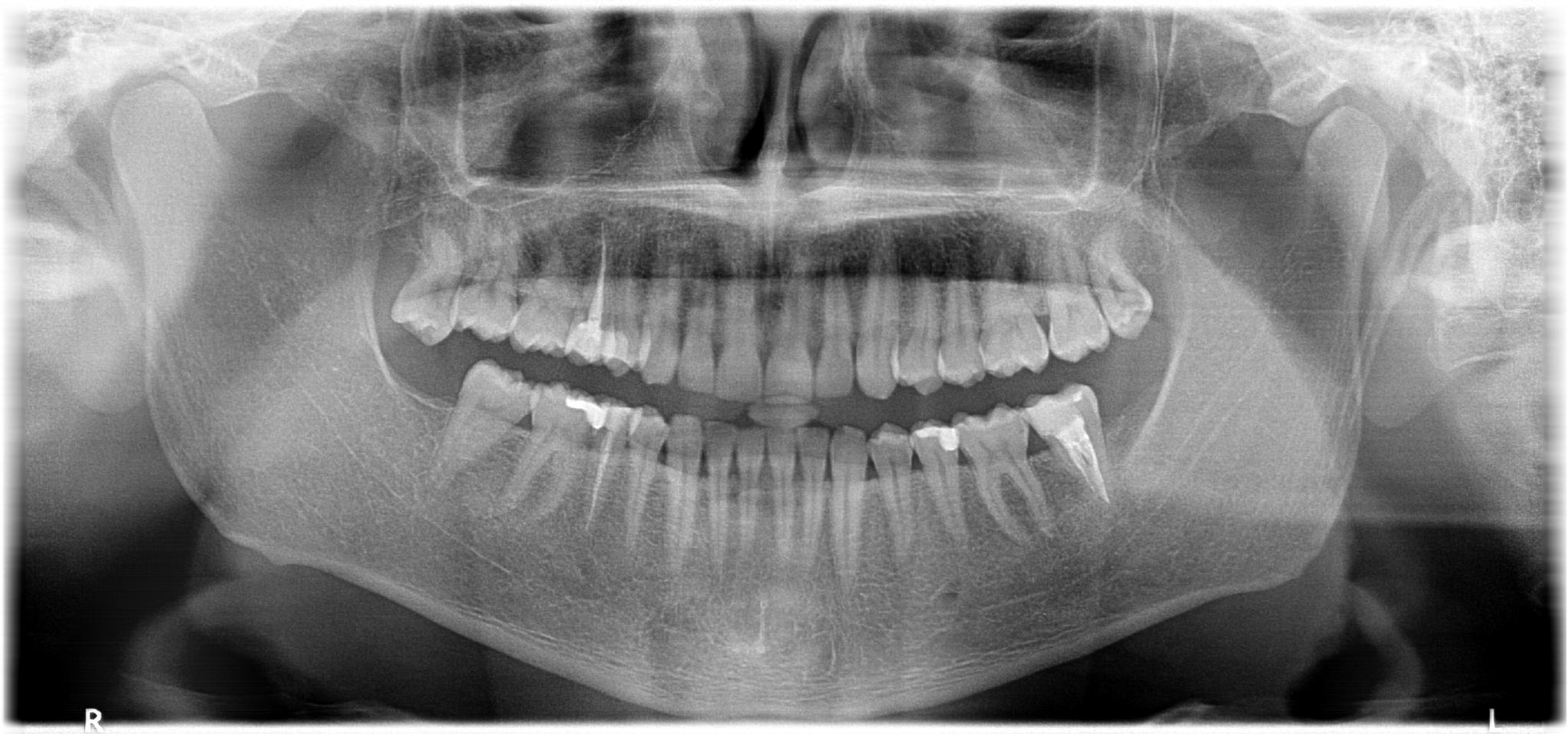Premolars: (471, 204, 1424, 643), (522, 184, 1568, 546)
